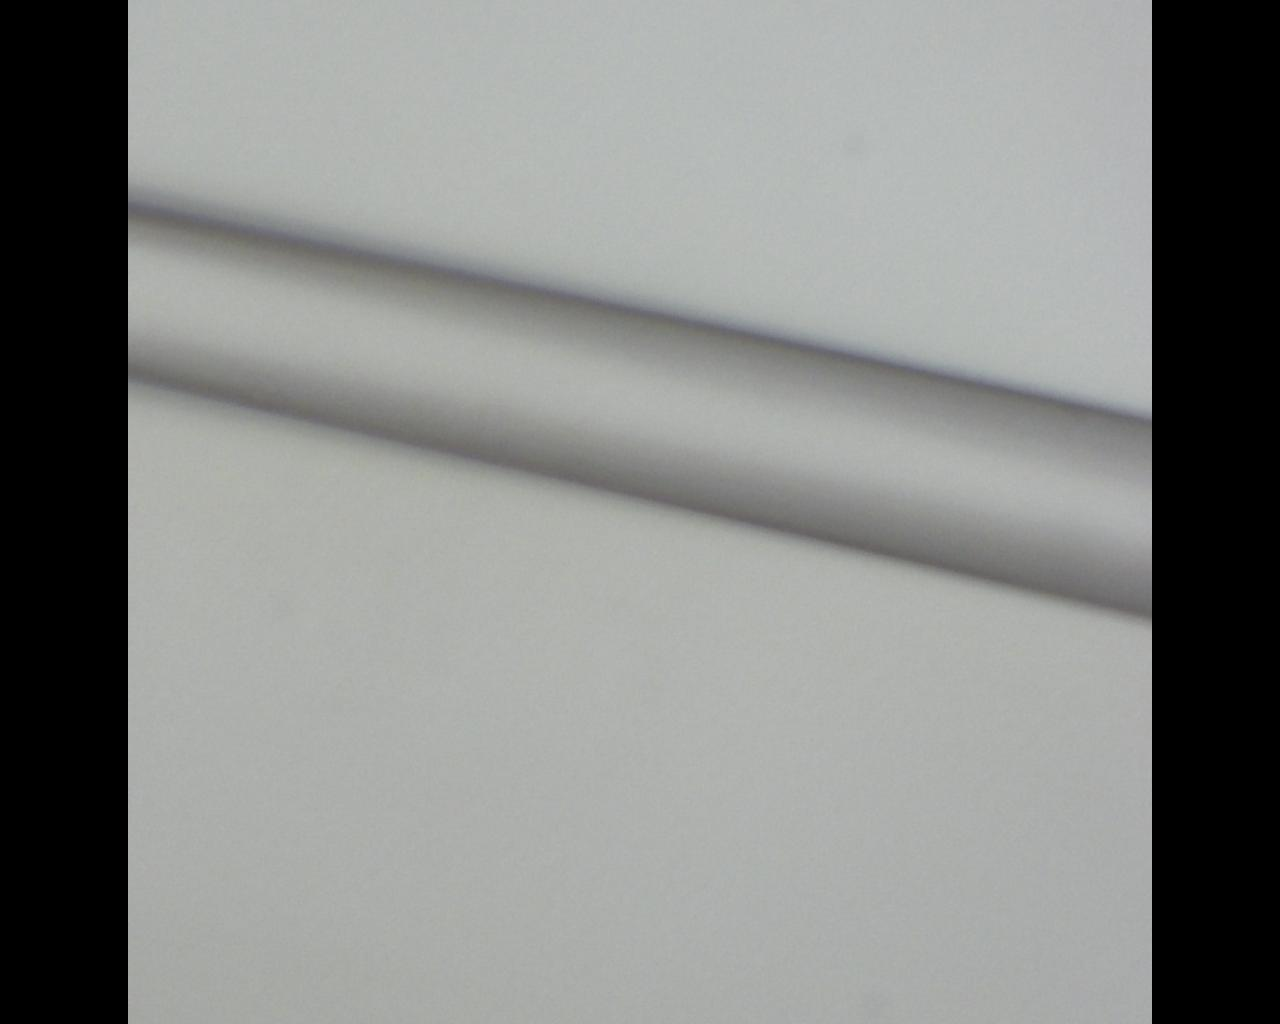fiber: (279, 512, 444, 1024), (581, 0, 633, 512)
